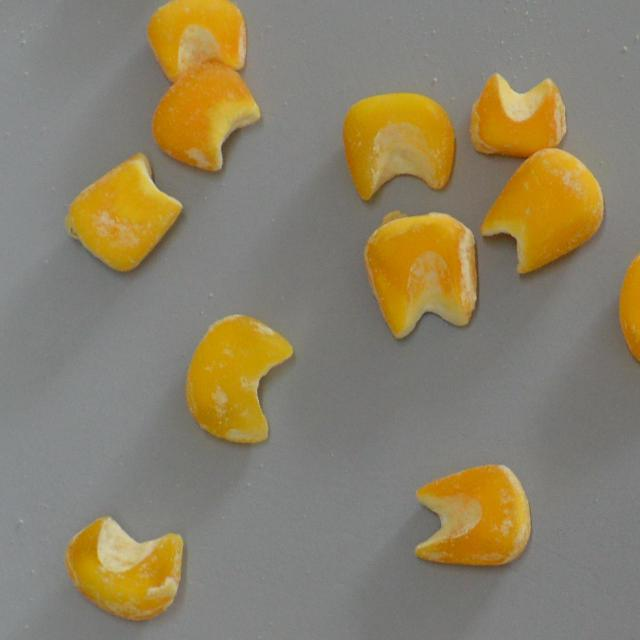no_canjicado: (341, 92, 455, 201), (616, 243, 640, 370)
pelicula: (480, 146, 604, 276), (183, 312, 292, 446), (362, 212, 475, 340), (66, 156, 183, 274), (63, 516, 184, 622), (412, 462, 531, 568), (150, 63, 261, 172), (146, 0, 248, 82), (470, 71, 567, 156)
